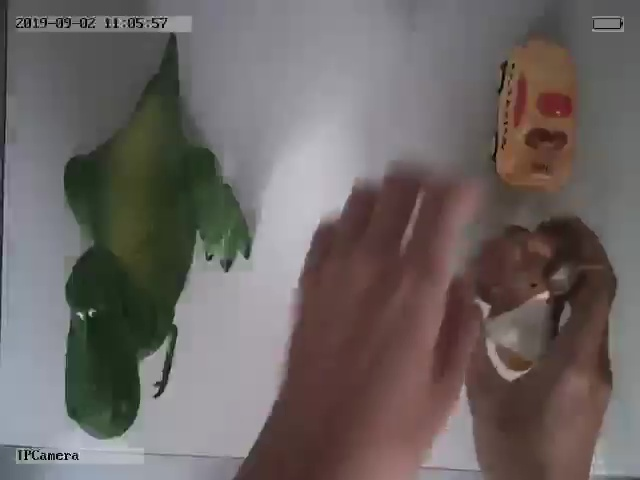car: (490, 36, 580, 191)
rex: (62, 49, 254, 441)
